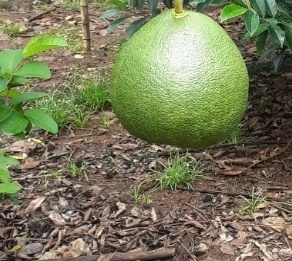Buoi: (94, 7, 256, 156)
